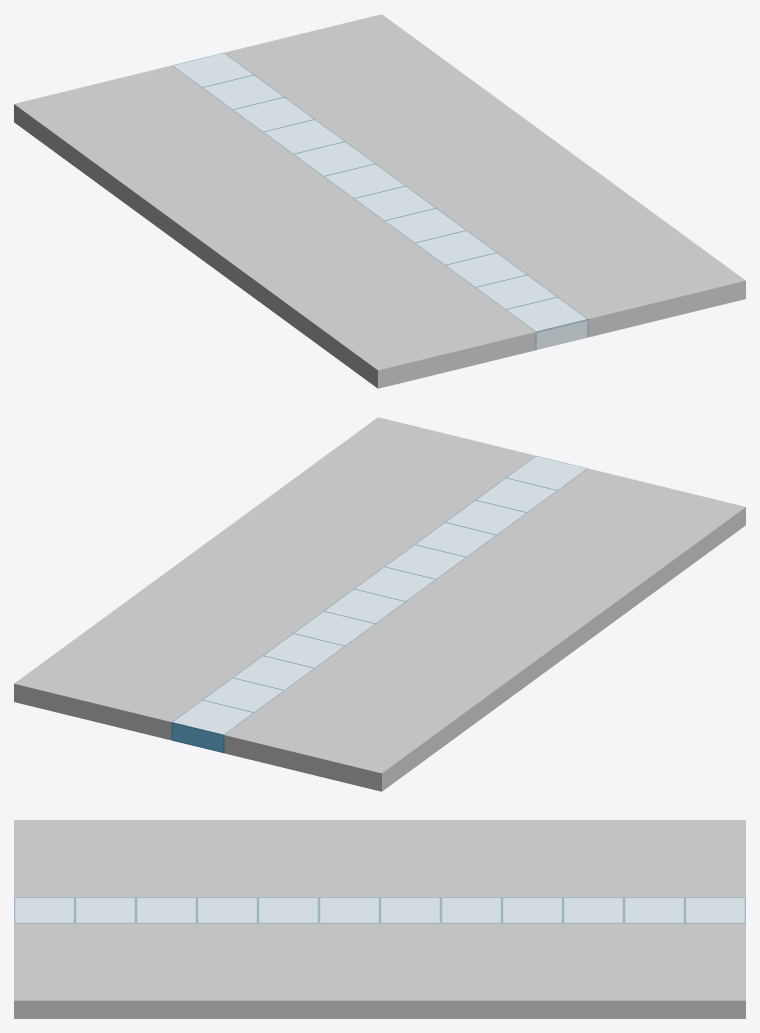
Rendered from ER_LevelSegment_V1.fbx.
3 renders of one model, top to bottom at view 1: azimuth 30°, elevation 25°; view 2: azimuth 150°, elevation 25°; view 3: azimuth 270°, elevation 25°, orthographic.
Visible parts, largest first — view 1: Row 34-36_6, Row 34-36, Row 34-36_4, Row 34-36_2, Row 34-36_1, Row 34-36_3, Row 34-36_5, Row 4-6_6, Row 7-9_6, Row 10-12_6, Row 19-21_6, Row 28-30_6 (+72 smaller); view 2: Row 1-3_6, Row 1-3, Row 1-3_5, Row 1-3_2, Row 1-3_1, Row 1-3_3, Row 1-3_4, Row 31-33_6, Row 25-27_6, Row 28-30_6, Row 7-9_6, Row 16-18_6 (+72 smaller); view 3: Row 34-36_3, Row 1-3_3, Row 4-6_3, Row 7-9_3, Row 10-12_3, Row 13-15_3, Row 16-18_3, Row 19-21_3, Row 22-24_3, Row 25-27_3, Row 28-30_3, Row 31-33_3 (+72 smaller).
Part boxes in pixels (left/top/right/bottom): Row 34-36_6: left=347, top=335, right=430, bottom=388; Row 34-36: left=506, top=297, right=588, bottom=350; Row 34-36_4: left=400, top=322, right=483, bottom=375; Row 34-36_2: left=558, top=284, right=640, bottom=337; Row 34-36_1: left=611, top=271, right=693, bottom=324; Row 34-36_3: left=663, top=258, right=745, bottom=311; Row 34-36_5: left=453, top=310, right=535, bottom=362; Row 4-6_6: left=44, top=113, right=126, bottom=166; Row 7-9_6: left=74, top=135, right=157, bottom=188; Row 10-12_6: left=105, top=158, right=187, bottom=210; Row 19-21_6: left=196, top=224, right=278, bottom=277; Row 28-30_6: left=287, top=291, right=369, bottom=343; Row 1-3_6: left=329, top=738, right=412, bottom=791; Row 1-3: left=171, top=700, right=253, bottom=753; Row 1-3_5: left=276, top=725, right=359, bottom=778; Row 1-3_2: left=119, top=687, right=201, bottom=740; Row 1-3_1: left=66, top=674, right=148, bottom=727; Row 1-3_3: left=14, top=661, right=96, bottom=714; Row 1-3_4: left=224, top=713, right=306, bottom=765; Row 31-33_6: left=633, top=516, right=715, bottom=569; Row 25-27_6: left=572, top=561, right=654, bottom=613; Row 28-30_6: left=602, top=538, right=685, bottom=591; Row 7-9_6: left=390, top=694, right=472, bottom=746; Row 16-18_6: left=481, top=627, right=563, bottom=680; Row 34-36_3: left=14, top=974, right=74, bottom=1018; Row 1-3_3: left=685, top=974, right=745, bottom=1018; Row 4-6_3: left=624, top=974, right=684, bottom=1018; Row 7-9_3: left=563, top=974, right=623, bottom=1018; Row 10-12_3: left=502, top=974, right=562, bottom=1018; Row 13-15_3: left=441, top=974, right=501, bottom=1018; Row 16-18_3: left=380, top=974, right=440, bottom=1018; Row 19-21_3: left=319, top=974, right=379, bottom=1018; Row 22-24_3: left=258, top=974, right=318, bottom=1018; Row 25-27_3: left=197, top=974, right=257, bottom=1018; Row 28-30_3: left=136, top=974, right=196, bottom=1018; Row 31-33_3: left=75, top=974, right=135, bottom=1018.
Bounding box in the file's own units: 1050 × 50 × 1800.
1 material, 1 textured.
